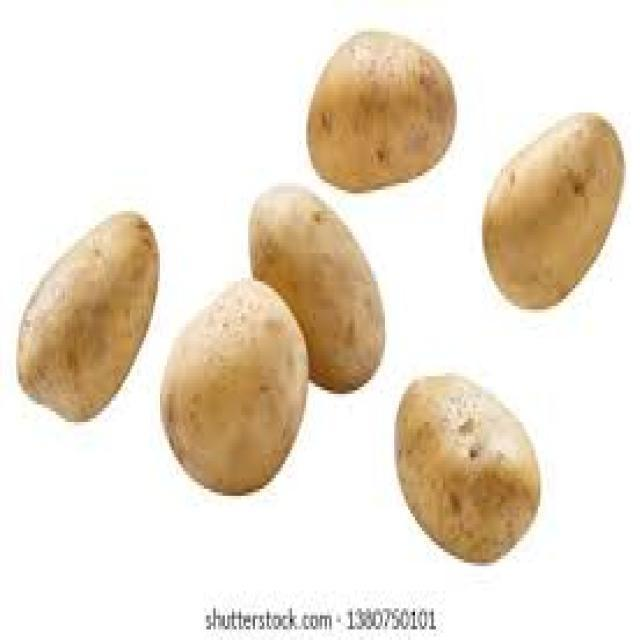Potato: (159, 279, 311, 499), (13, 212, 161, 426), (480, 112, 627, 313), (247, 186, 387, 396), (393, 374, 543, 566), (305, 29, 458, 194)
